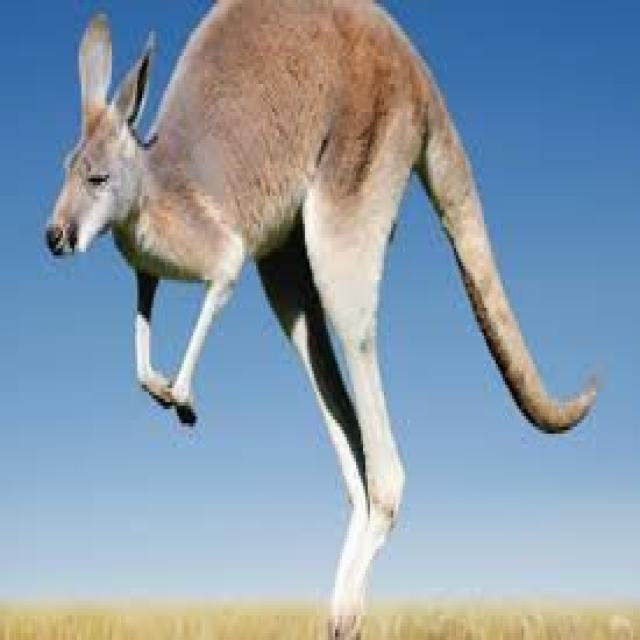Kangaroo: (28, 1, 600, 640)
